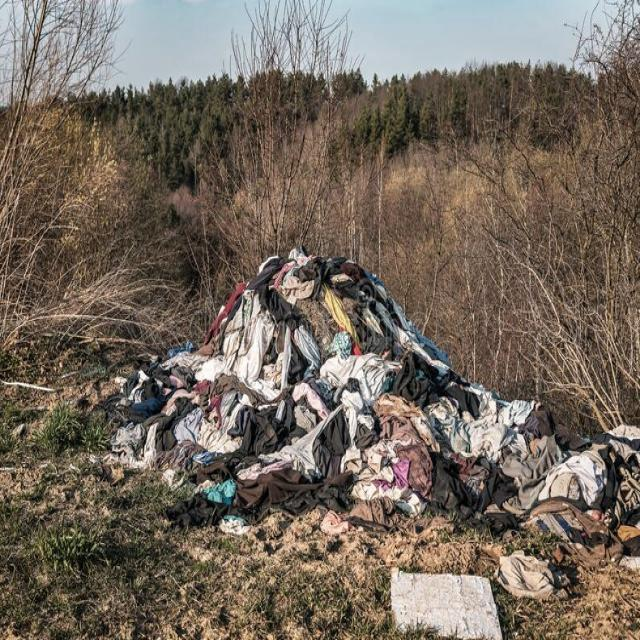clothes: (205, 278, 424, 510)
